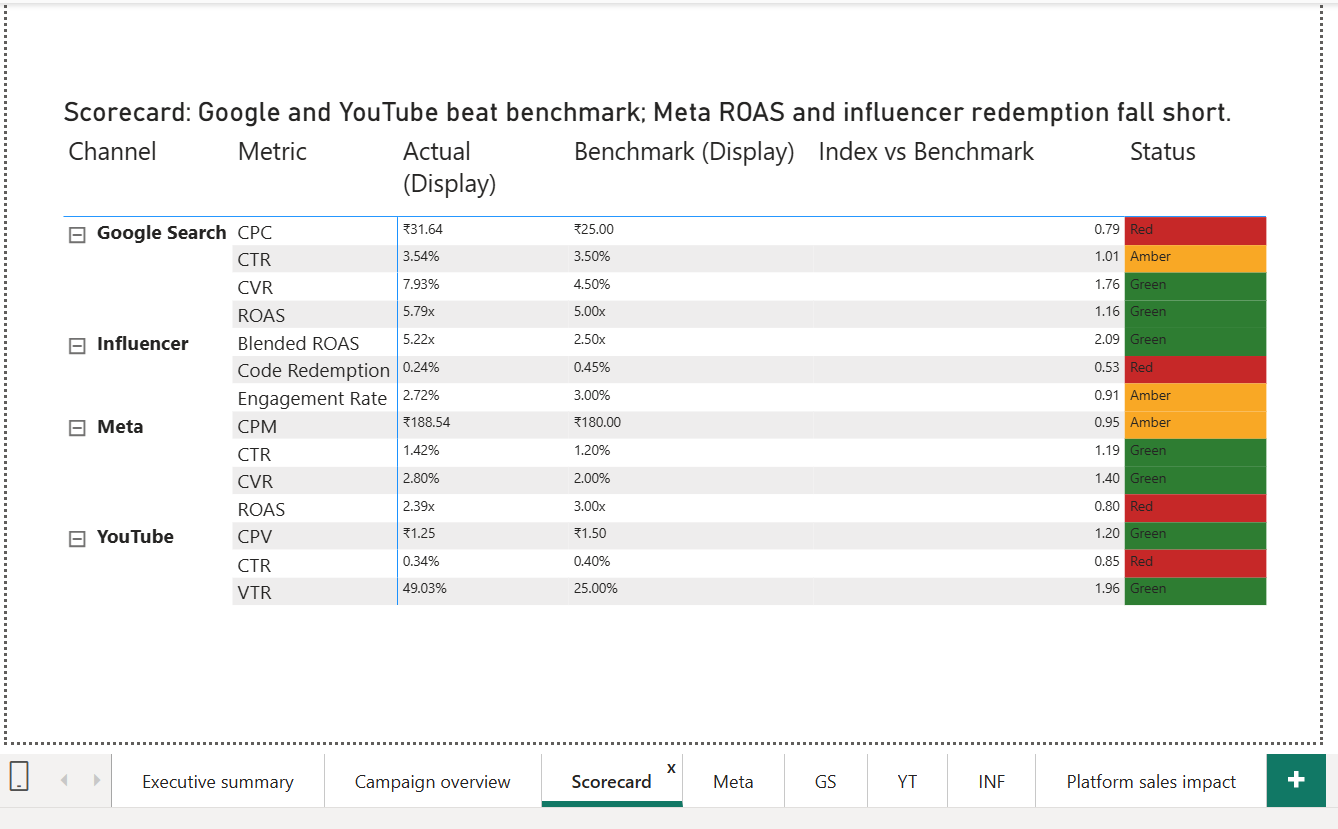

This screenshot's page, from the dashboard's own definition file:
{"tool":"powerbi","page":{"name":"Scorecard","canvas":[1280,720],"ordinal":2},"visuals":[{"type":"pivotTable","title":"Scorecard: Google and YouTube beat benchmark; Meta ROAS and influencer redemption fall short.","fields":{"Rows":["Bench.Channel","Bench.Metric"],"Values":["KPI_Measures.Actual (Display)","KPI_Measures.Benchmark (Display)","KPI_Measures.Index vs Benchmark","KPI_Measures.Status"]},"box":[50,90,1183,533],"z":0}]}

Visuals, with their boxes on the page's 1280x720 design canvas (x1, y1, x2, y2). These are canvas units, not pixel positions in the 1338x829 screenshot, which may show the page scaled, cropped or inside an application window:
"Scorecard: Google and YouTube beat benchmark; Meta ROAS and influencer redemption fall short." pivotTable: [50,90,1233,623]
